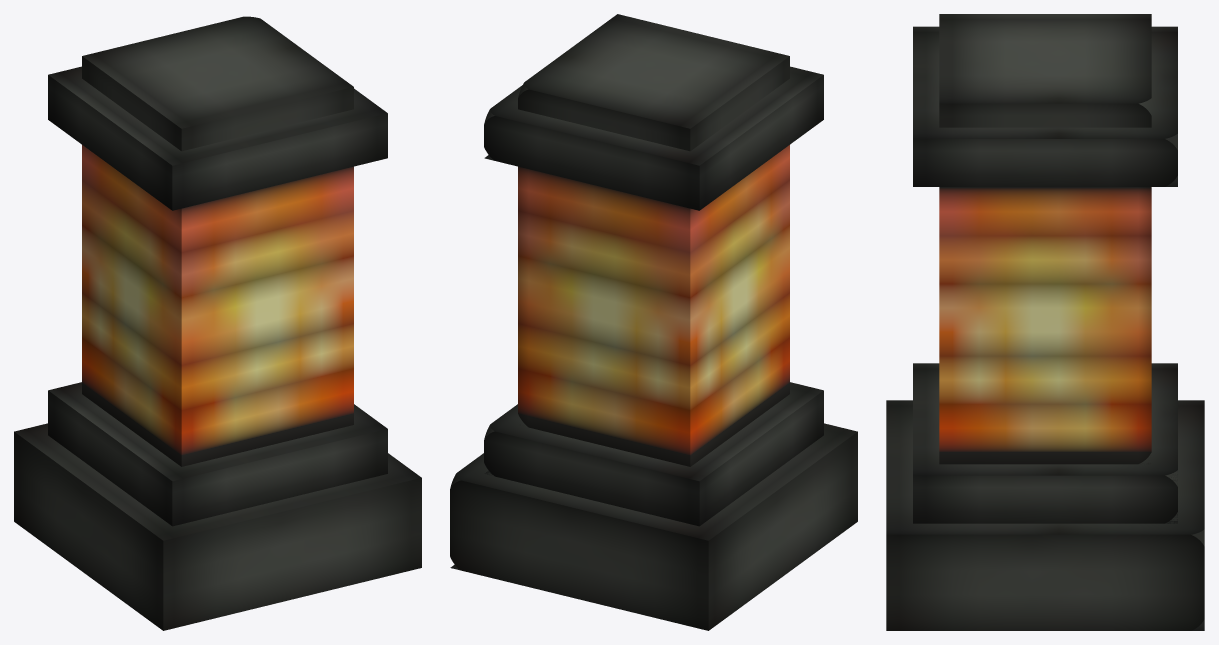
The model's file is lantern.obj.
3 views of the same model, side by side, from view 1: azimuth 30°, elevation 25°; view 2: azimuth 150°, elevation 25°; view 3: azimuth 270°, elevation 25° (orthographic). The views are drawn at different scales.
Parts seen in each view (by area): view 1: nz, nx, nB, nA, ny; view 2: nz, nx, nB, ny, nA; view 3: nz, nx, nB, nA, ny.
Part boxes in pixels (left/top/right/bottom): nz: left=82, top=145, right=353, bottom=466; nx: left=14, top=423, right=421, bottom=630; nB: left=82, top=16, right=353, bottom=151; nA: left=48, top=66, right=387, bottom=210; ny: left=48, top=382, right=387, bottom=526; nz: left=518, top=145, right=789, bottom=466; nx: left=450, top=423, right=857, bottom=630; nB: left=518, top=14, right=789, bottom=151; ny: left=484, top=382, right=823, bottom=526; nA: left=484, top=66, right=823, bottom=210; nz: left=939, top=187, right=1151, bottom=464; nx: left=886, top=400, right=1204, bottom=630; nB: left=939, top=14, right=1151, bottom=127; nA: left=913, top=26, right=1177, bottom=186; ny: left=913, top=363, right=1177, bottom=523.
Size of the model in its own units: 0.375 by 0.6562 by 0.375.
Materials: 1 (1 with a texture image).
